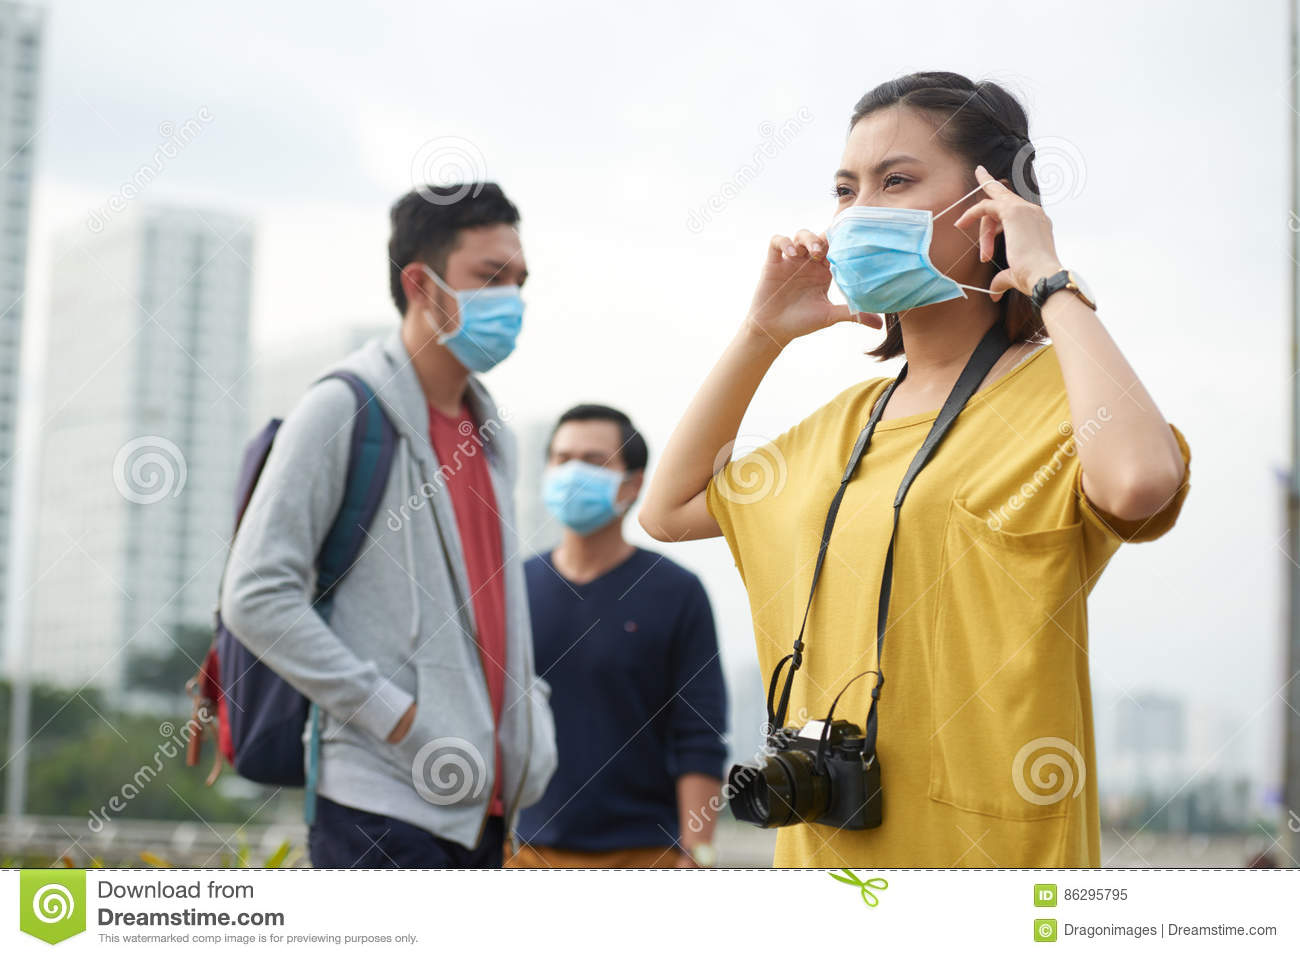mask: (819, 205, 967, 315)
